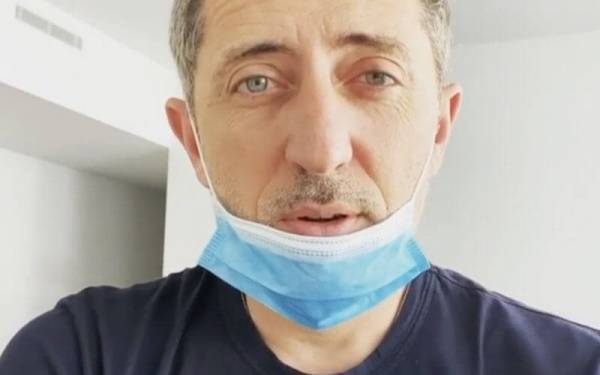with_incorrect_mask: (194, 28, 429, 311)
